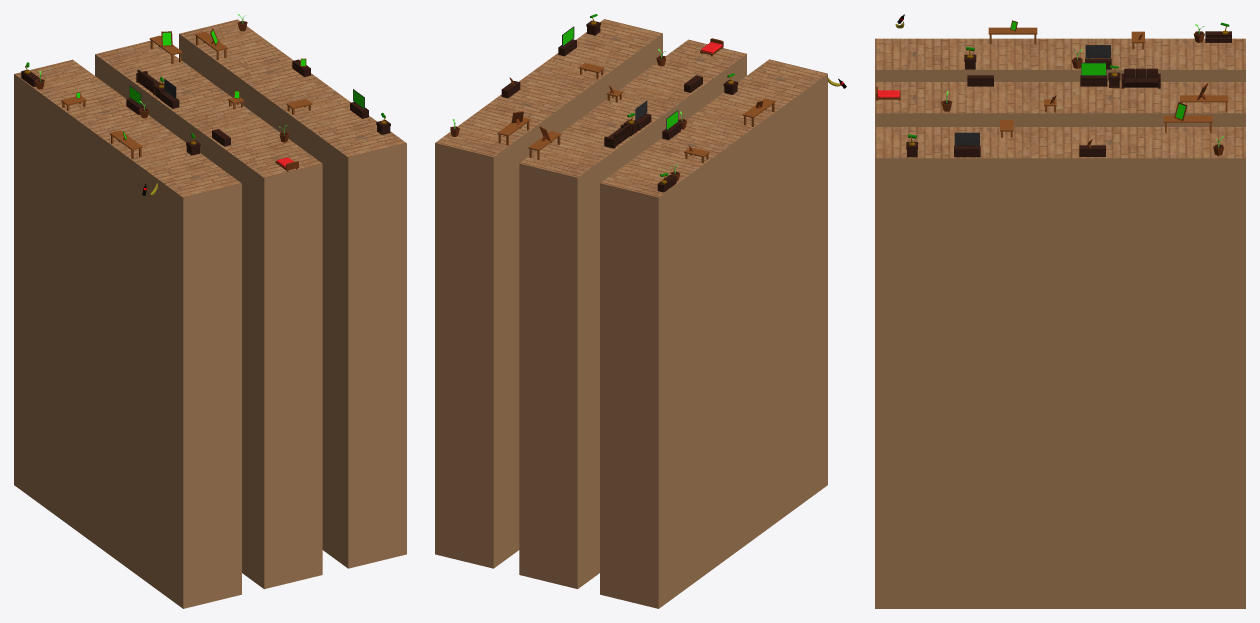
Rendered from stage1_3.glb.
3 views of the same model, side by side, from view 1: azimuth 30°, elevation 25°; view 2: azimuth 150°, elevation 25°; view 3: azimuth 270°, elevation 25° (orthographic). The views are drawn at different scales.
Parts seen in each view (by area): view 1: $Road1, $Road1.002, $Road1.001; view 2: $Road1, $Road1.002, $Road1.001; view 3: $Road1.002, $Road1.001, $Road1, sofa1.
Part boxes in pixels (x1=…): $Road1: x1=14, y1=59, x2=241, y2=608; $Road1.002: x1=179, y1=19, x2=406, y2=568; $Road1.001: x1=95, y1=40, x2=322, y2=589; $Road1: x1=600, y1=59, x2=827, y2=608; $Road1.002: x1=435, y1=19, x2=662, y2=568; $Road1.001: x1=519, y1=39, x2=746, y2=589; $Road1.002: x1=875, y1=127, x2=1245, y2=608; $Road1.001: x1=875, y1=82, x2=1245, y2=126; $Road1: x1=875, y1=38, x2=1245, y2=81; sofa1: x1=1121, y1=68, x2=1160, y2=88.
Bounding box in the file's own units: 25.92 × 42.51 × 30.
Materials: 17 (1 with a texture image).
